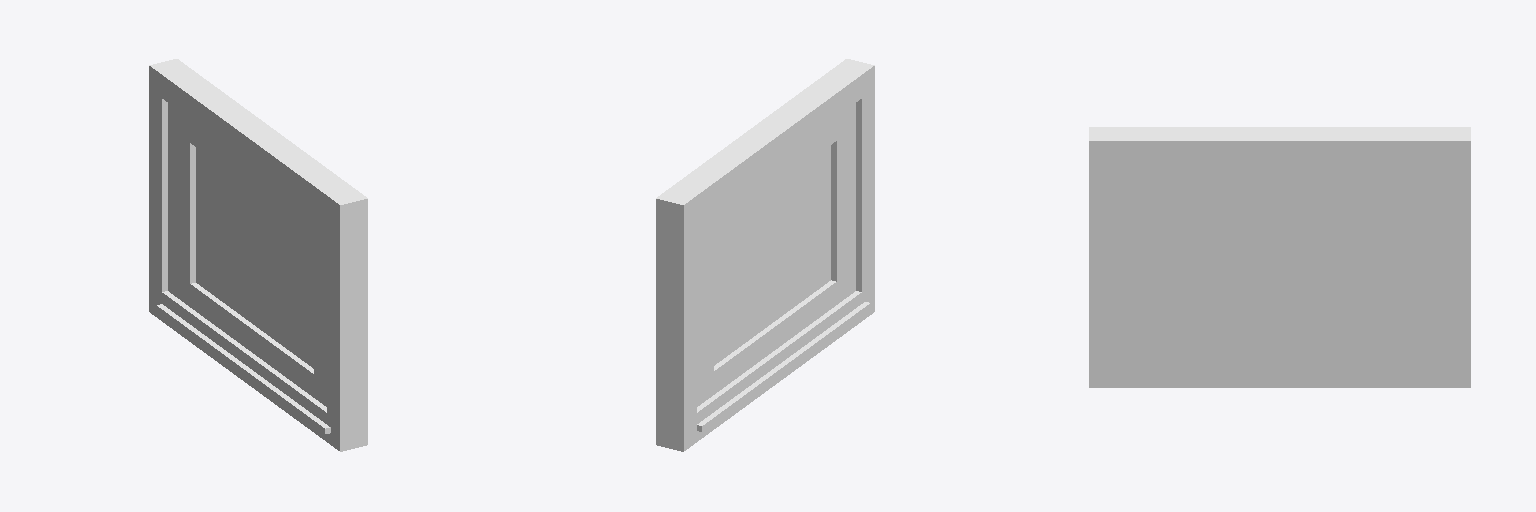
Rendered from MuPicture.obj.
The picture shows the model from 3 angles: view 1: azimuth 30°, elevation 25°; view 2: azimuth 150°, elevation 25°; view 3: azimuth 270°, elevation 25°; orthographic projection.
Parts seen in each view (by area): view 1: object 1; view 2: object 1; view 3: object 1.
Boxes of the visible parts, x1=… form: object 1: x1=149, y1=59, x2=367, y2=451; object 1: x1=656, y1=59, x2=874, y2=451; object 1: x1=1089, y1=127, x2=1470, y2=387.
Size of the model in its own units: 0.6 by 4.2 by 5.9.